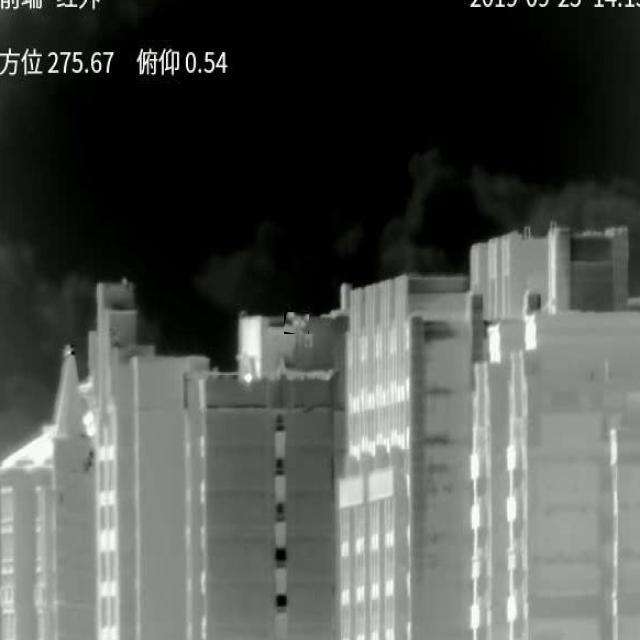drone: (286, 312, 309, 334)
